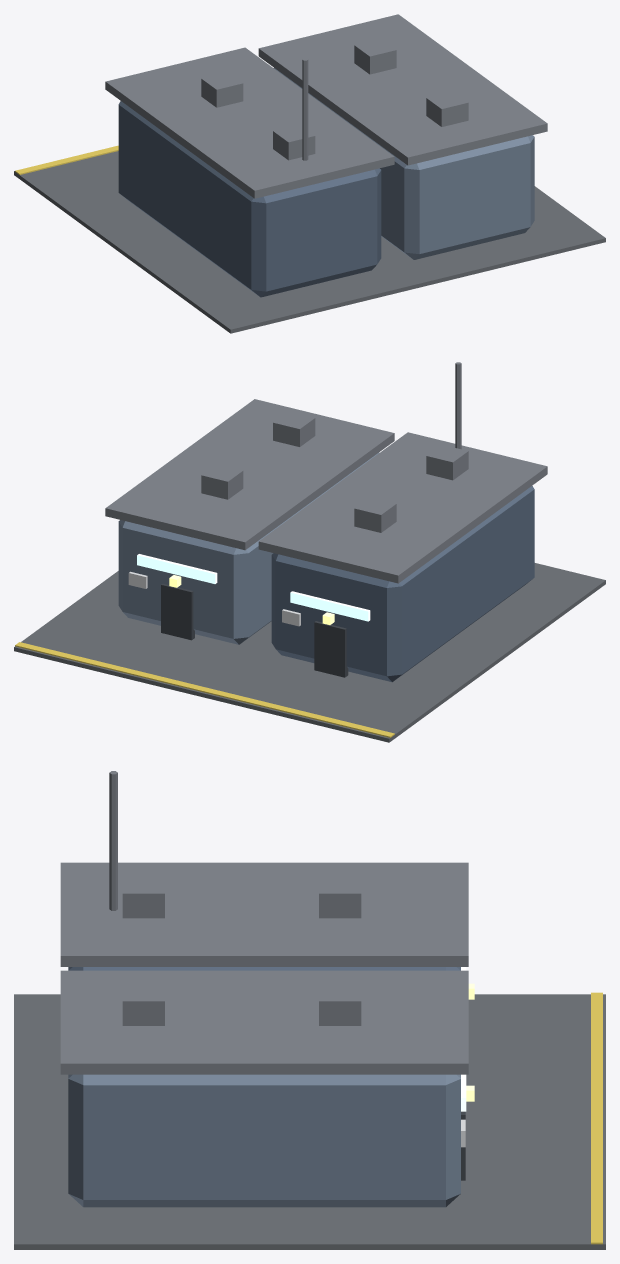
The model's file is zone_low_1.glb.
3 renders of one model, top to bottom at view 1: azimuth 30°, elevation 25°; view 2: azimuth 150°, elevation 25°; view 3: azimuth 270°, elevation 25°, orthographic. The views are drawn at different scales.
Visible parts, largest first — view 1: zone_low_1, detail; view 2: zone_low_1, detail; view 3: zone_low_1, detail.
Boxes of the visible parts, box(x1,y1,x2,y2) form: zone_low_1: box(14, 14, 605, 333); detail: box(15, 39, 468, 174); zone_low_1: box(14, 399, 605, 742); detail: box(15, 362, 468, 737); zone_low_1: box(14, 862, 605, 1249); detail: box(109, 771, 602, 1244).
Bounding box in the file's own units: 19.6 × 11 × 19.6.
